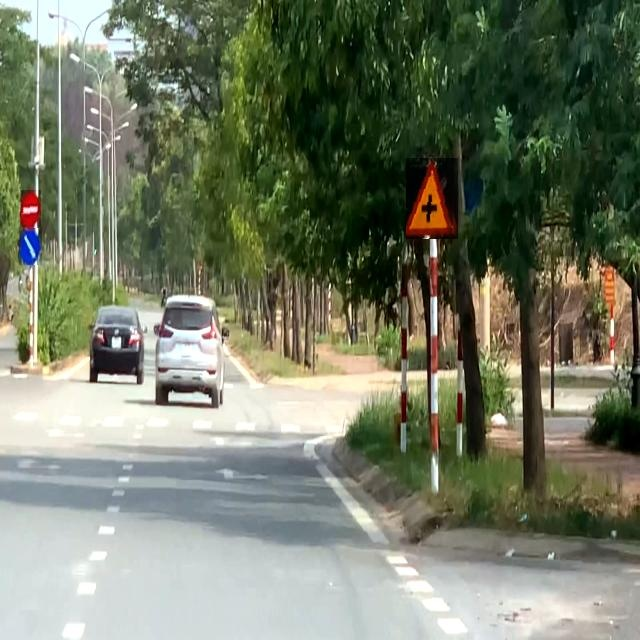bien_hieu_lenh: (406, 158, 458, 239), (19, 227, 42, 265), (20, 190, 41, 229)
